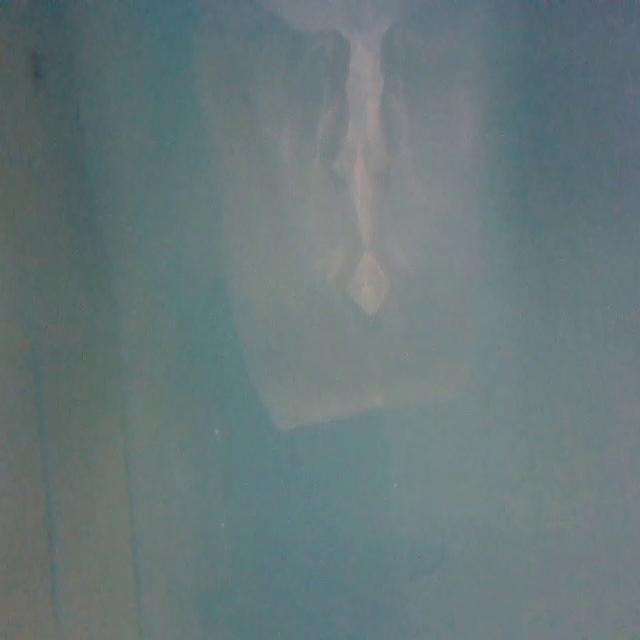plastic bags: (197, 0, 425, 475)
